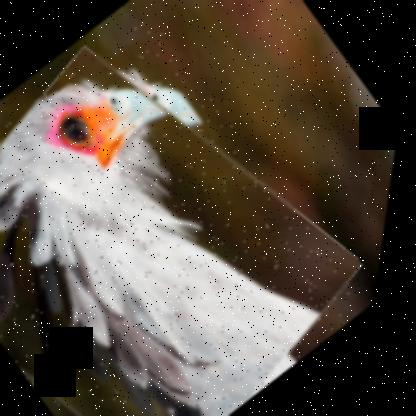Sagittarius serpentarius: (0, 10, 410, 415)
